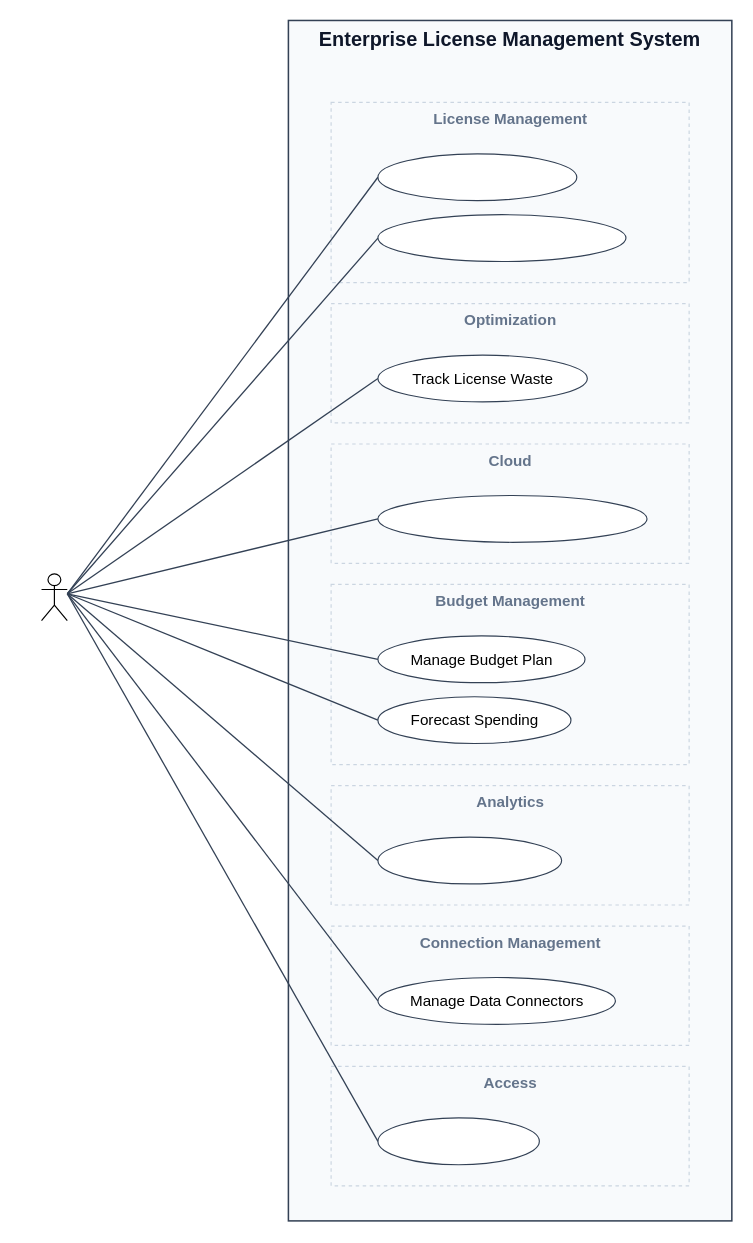
Some shapes in this 753 by 1243 pixel diagram are drawn without their labels. The shapes that lost their labels are listed below. From the top down, each one's centre as x and y in pixels, then its label:
At point 477,177: "View License Detail".
At point 501,237: "Maintain License Inventory".
At point 512,518: "Track Cloud Costs and Usage".
At point 53,597: "Manager".
At point 469,860: "View Dashboards".
At point 458,1141: "Login / Logout".
